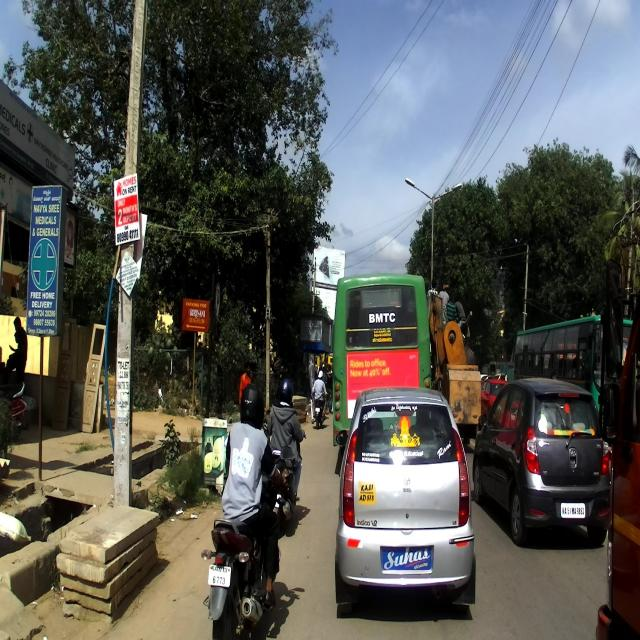bus: (332, 275, 430, 443), (515, 316, 633, 419)
car: (335, 385, 475, 609), (471, 378, 612, 546)
motorcycle: (199, 447, 293, 637)
